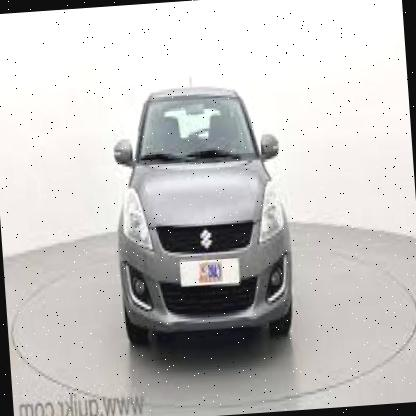car: (94, 71, 310, 356)
